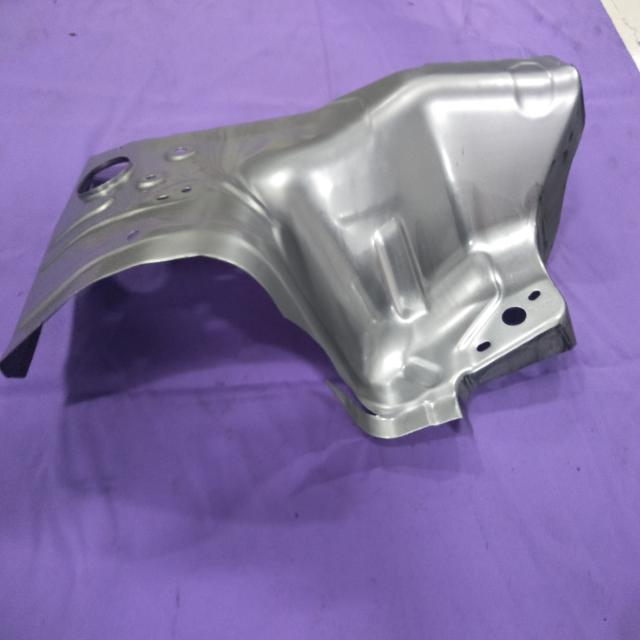Defect: (285, 314, 400, 425)
